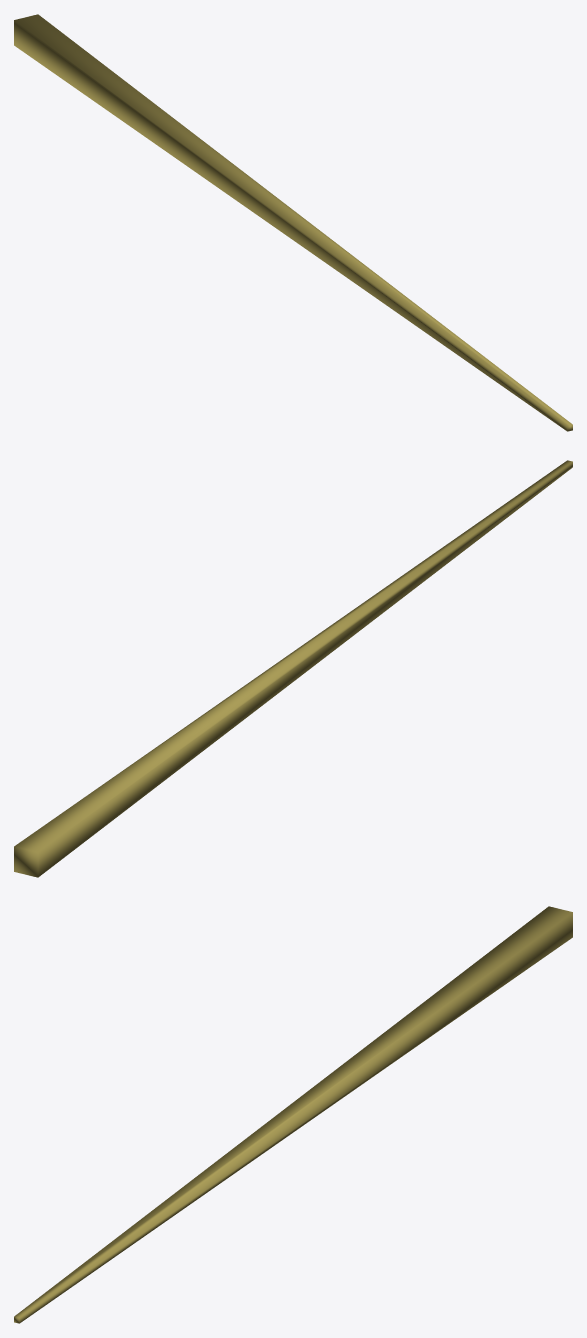
File: queue.dae
3 renders of one model, top to bottom at view 1: azimuth 30°, elevation 25°; view 2: azimuth 150°, elevation 25°; view 3: azimuth 330°, elevation 25°, orthographic.
Parts seen in each view (by area): view 1: queue; view 2: queue; view 3: queue.
Boxes of the visible parts, x1,y1,x2,y2 form: queue: (14,14,572,431); queue: (14,460,572,877); queue: (14,906,572,1323).
Size of the model in its own units: 0.56 by 21.86 by 0.56.
